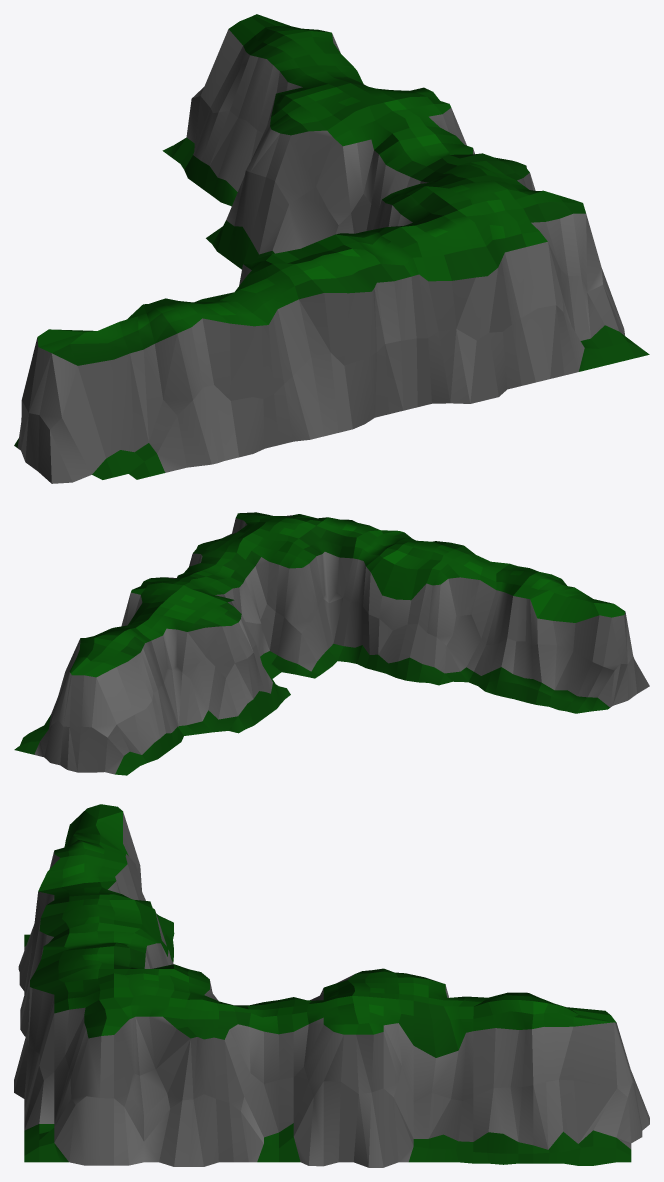
The model's file is TerrainCorner01.fbx.
3 views of the same model, one above another, from view 1: azimuth 30°, elevation 25°; view 2: azimuth 150°, elevation 25°; view 3: azimuth 270°, elevation 25° (orthographic). The views are drawn at different scales.
Parts seen in each view (by area): view 1: TerrainCorner03; view 2: TerrainCorner03; view 3: TerrainCorner03.
Part boxes in pixels (left/top/right/bottom): TerrainCorner03: left=14, top=14, right=649, bottom=483; TerrainCorner03: left=14, top=512, right=649, bottom=775; TerrainCorner03: left=14, top=804, right=649, bottom=1167.
Bounding box in the file's own units: 10.03 × 2.38 × 10.24.
